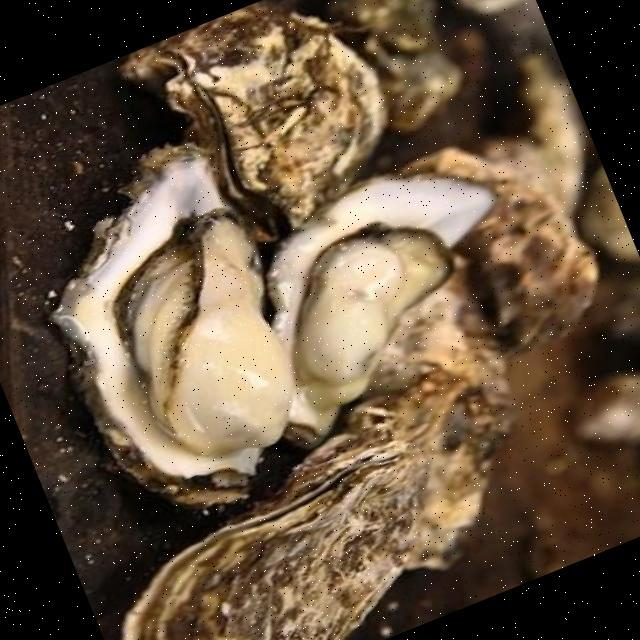Oyster-Closed: (120, 436, 421, 639), (133, 6, 386, 229), (404, 146, 598, 360), (368, 254, 513, 435), (386, 363, 500, 570), (346, 44, 478, 128), (317, 0, 471, 58), (575, 368, 640, 447)
Oyster-Open: (50, 147, 295, 508), (275, 180, 495, 448), (332, 388, 408, 439)
